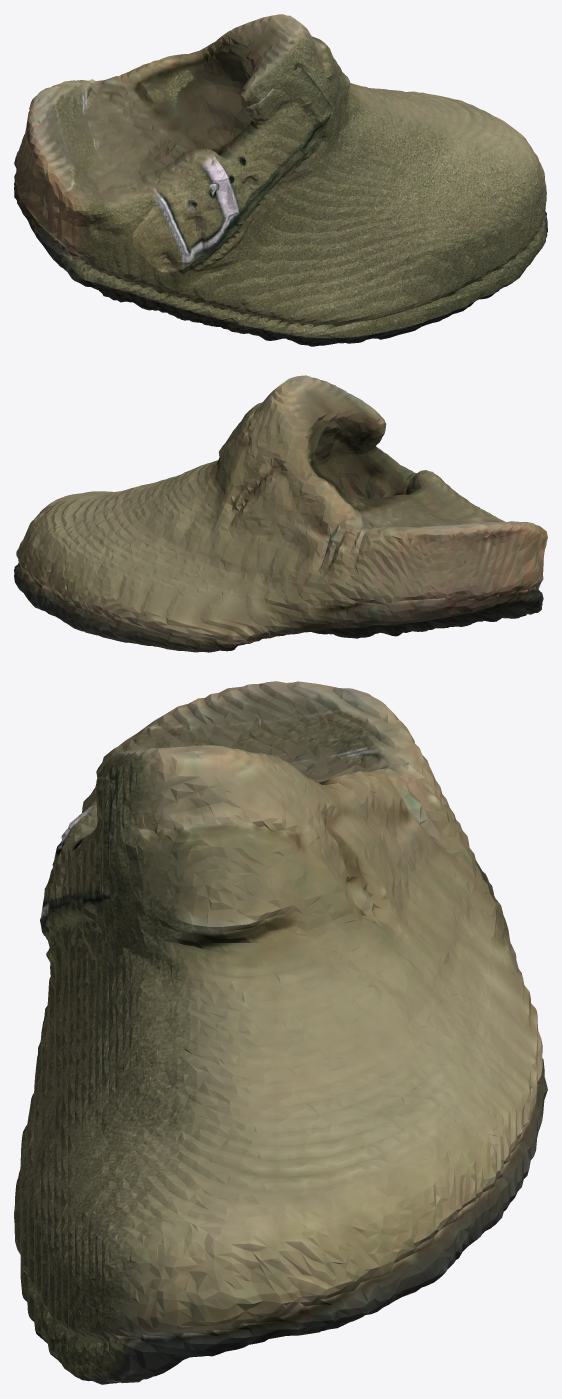
The model's file is birken-stock-slippers.glb.
The picture shows the model from 3 angles, top to bottom: view 1: azimuth 30°, elevation 25°; view 2: azimuth 150°, elevation 25°; view 3: azimuth 270°, elevation 25°; orthographic projection. The views are drawn at different scales.
Parts seen in each view (by area): view 1: geometry_0; view 2: geometry_0; view 3: geometry_0.
Boxes of the visible parts, x1,y1,x2,y2 form: geometry_0: (14,14,547,346); geometry_0: (14,375,547,652); geometry_0: (14,681,547,1384).
Size of the model in its own units: 0.9745 by 0.5478 by 0.5353.
Materials: 1 (1 with a texture image).
